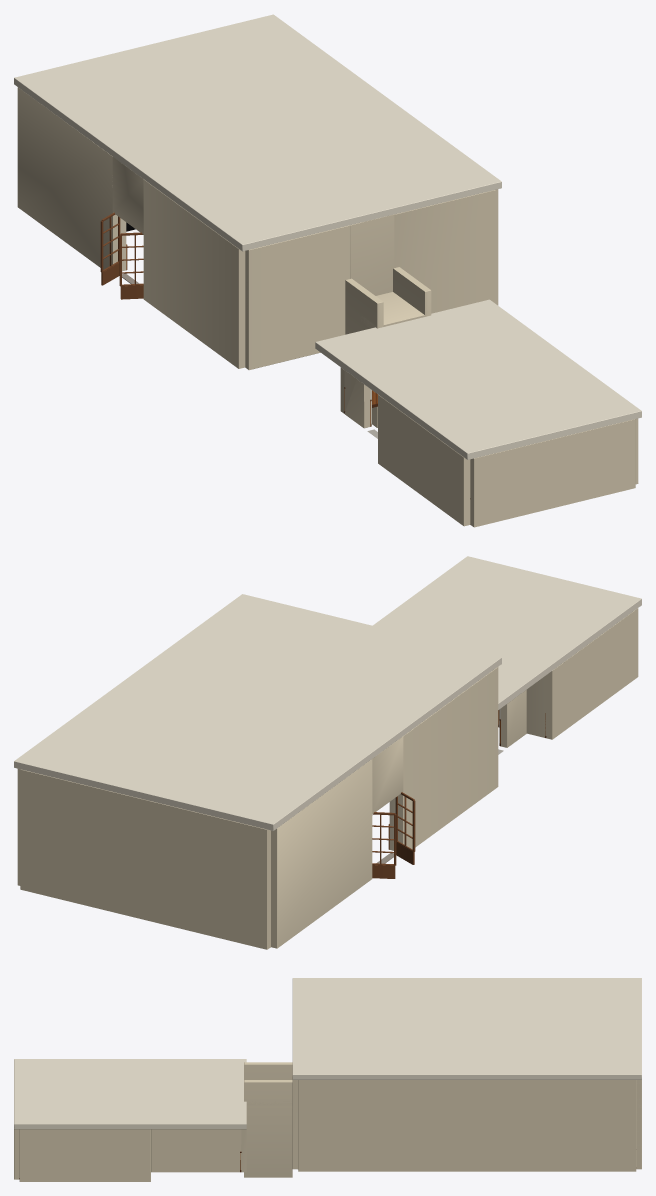
The model's file is fetes.glb.
The picture shows the model from 3 angles, top to bottom: view 1: azimuth 30°, elevation 25°; view 2: azimuth 150°, elevation 25°; view 3: azimuth 270°, elevation 25°; orthographic projection. The views are drawn at different scales.
Bounding box in the file's own units: 13.04 × 8.3 × 33.45.
347 materials, 55 textured.
